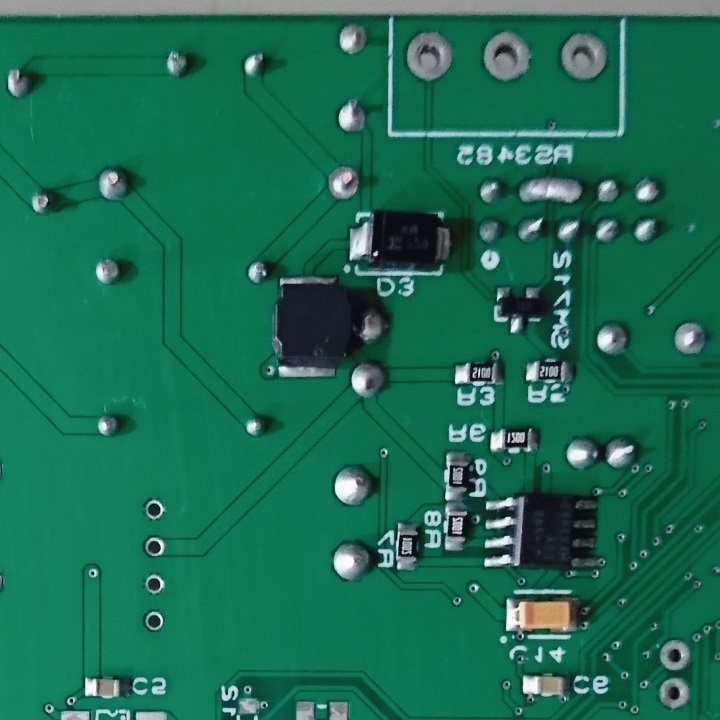F: (481, 29, 537, 89), (403, 29, 459, 86), (557, 31, 609, 83), (333, 95, 368, 135), (326, 163, 361, 202), (656, 638, 693, 673), (658, 675, 691, 713), (674, 320, 707, 357), (336, 21, 367, 55), (141, 569, 167, 598), (141, 495, 167, 523), (140, 534, 167, 559), (143, 610, 165, 633)
P: (516, 174, 587, 206)
